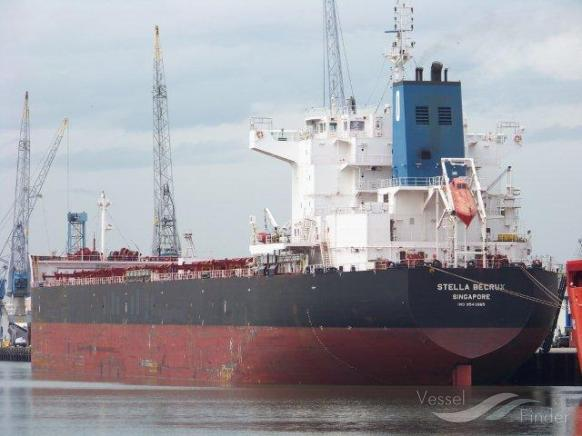OCR: (432, 279, 510, 312)
